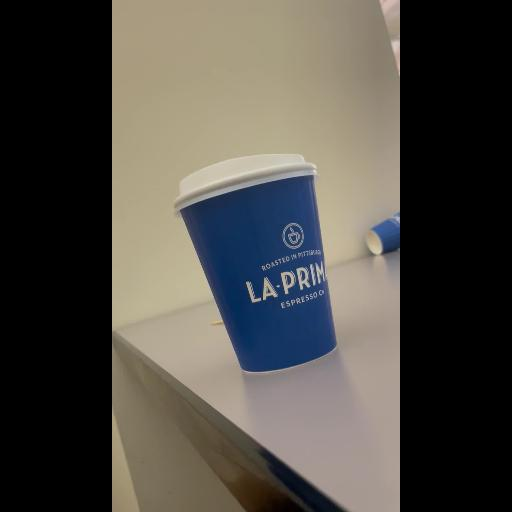lp_paper_cup: (163, 150, 371, 380)
